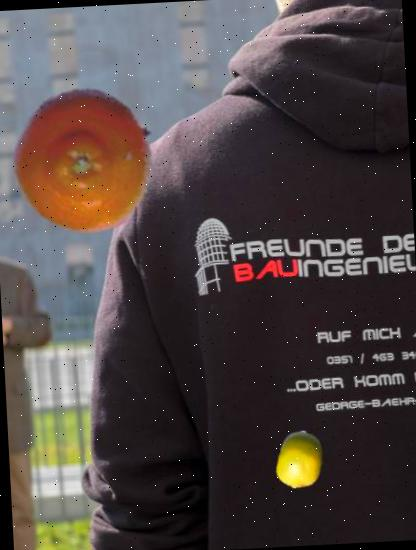Pomelo: (270, 429, 332, 490)
Tangelo: (10, 83, 164, 236)
